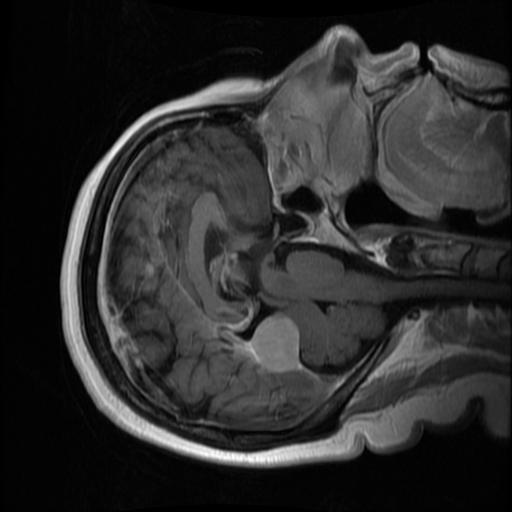meningioma: (249, 314, 299, 372)
